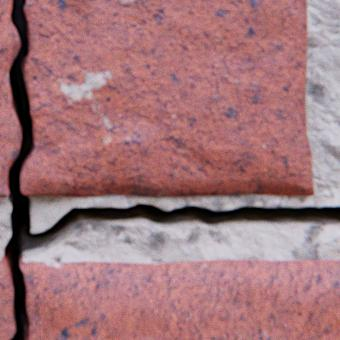broken_brick: (20, 0, 312, 195), (19, 258, 339, 339), (0, 0, 21, 196), (0, 260, 15, 339)
crack: (1, 0, 339, 339)
